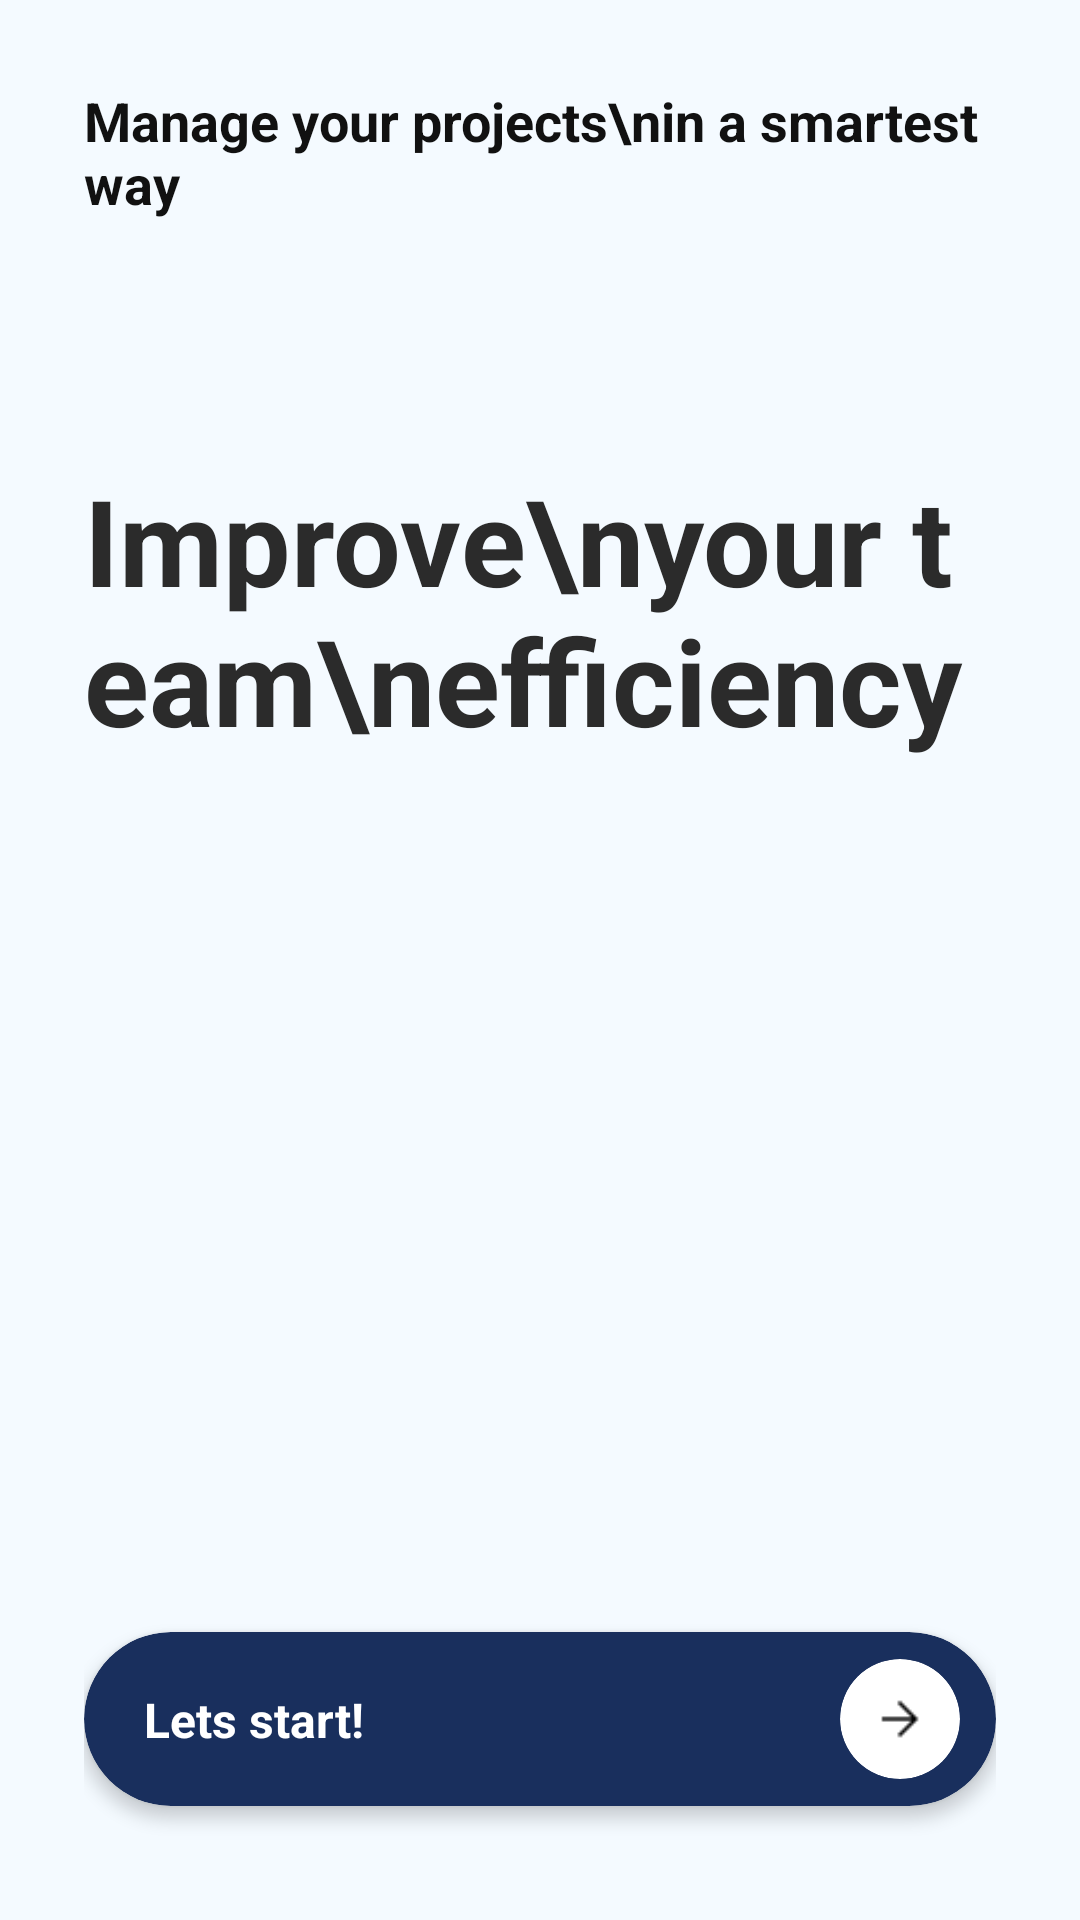

Screen size 1080x1920. Icon name, then its center in pixels as point (x, y):
Arrow: point (900, 1719)
